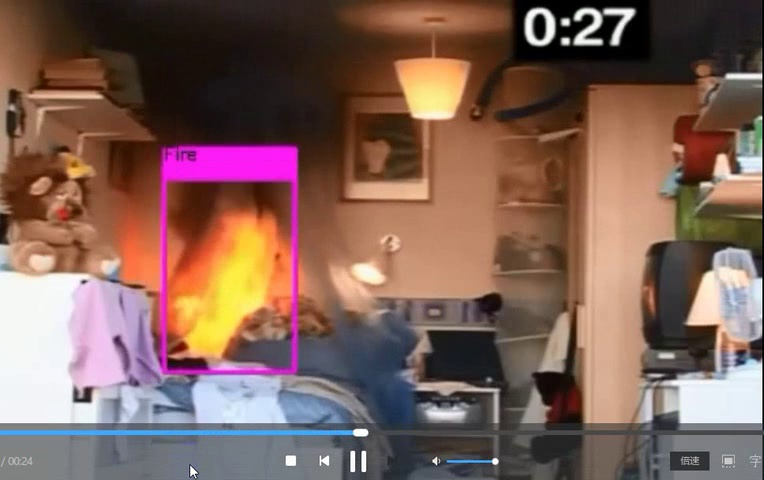fire: (161, 192, 280, 367)
